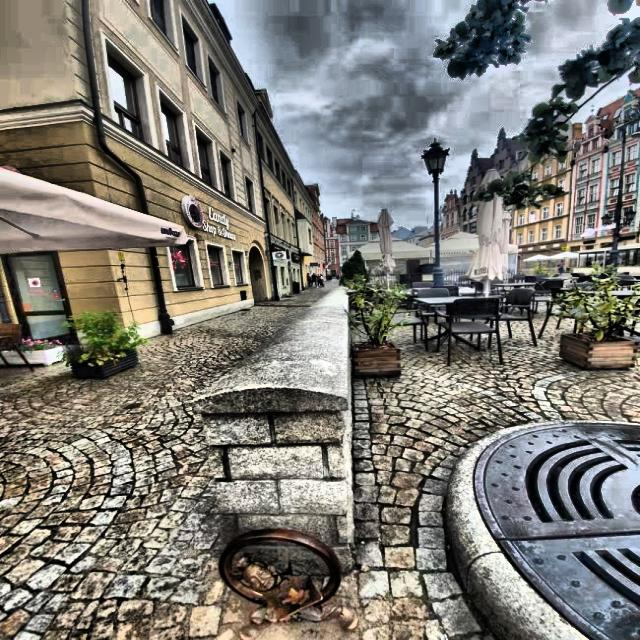TianTian: (220, 529, 357, 640)
